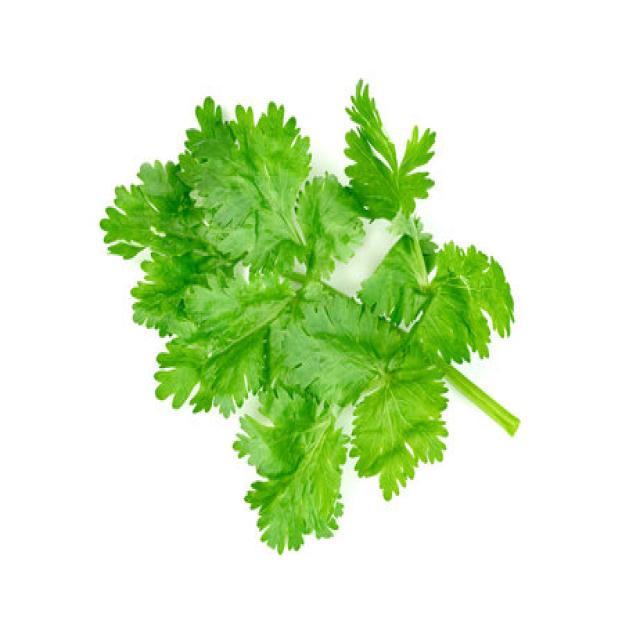Coriander Leaves: (100, 78, 520, 554)
